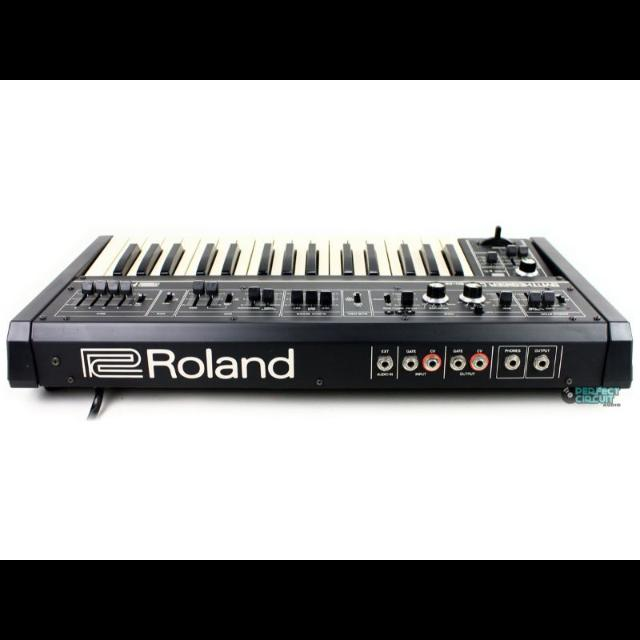Electronic-Keyboard: (3, 217, 631, 413)
